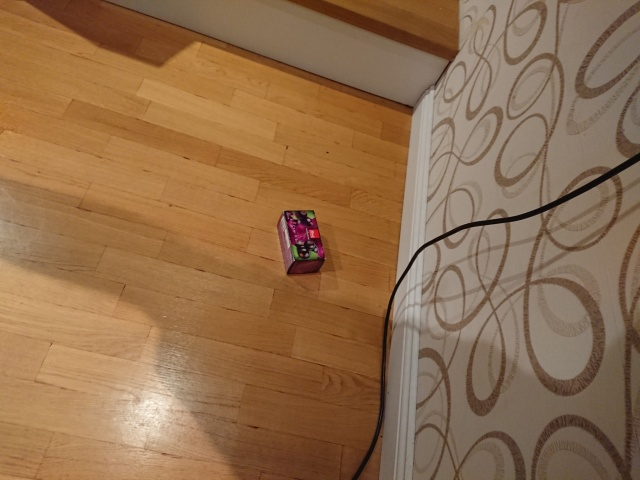Franck Black Currant Tea 60g: (275, 207, 328, 277)
